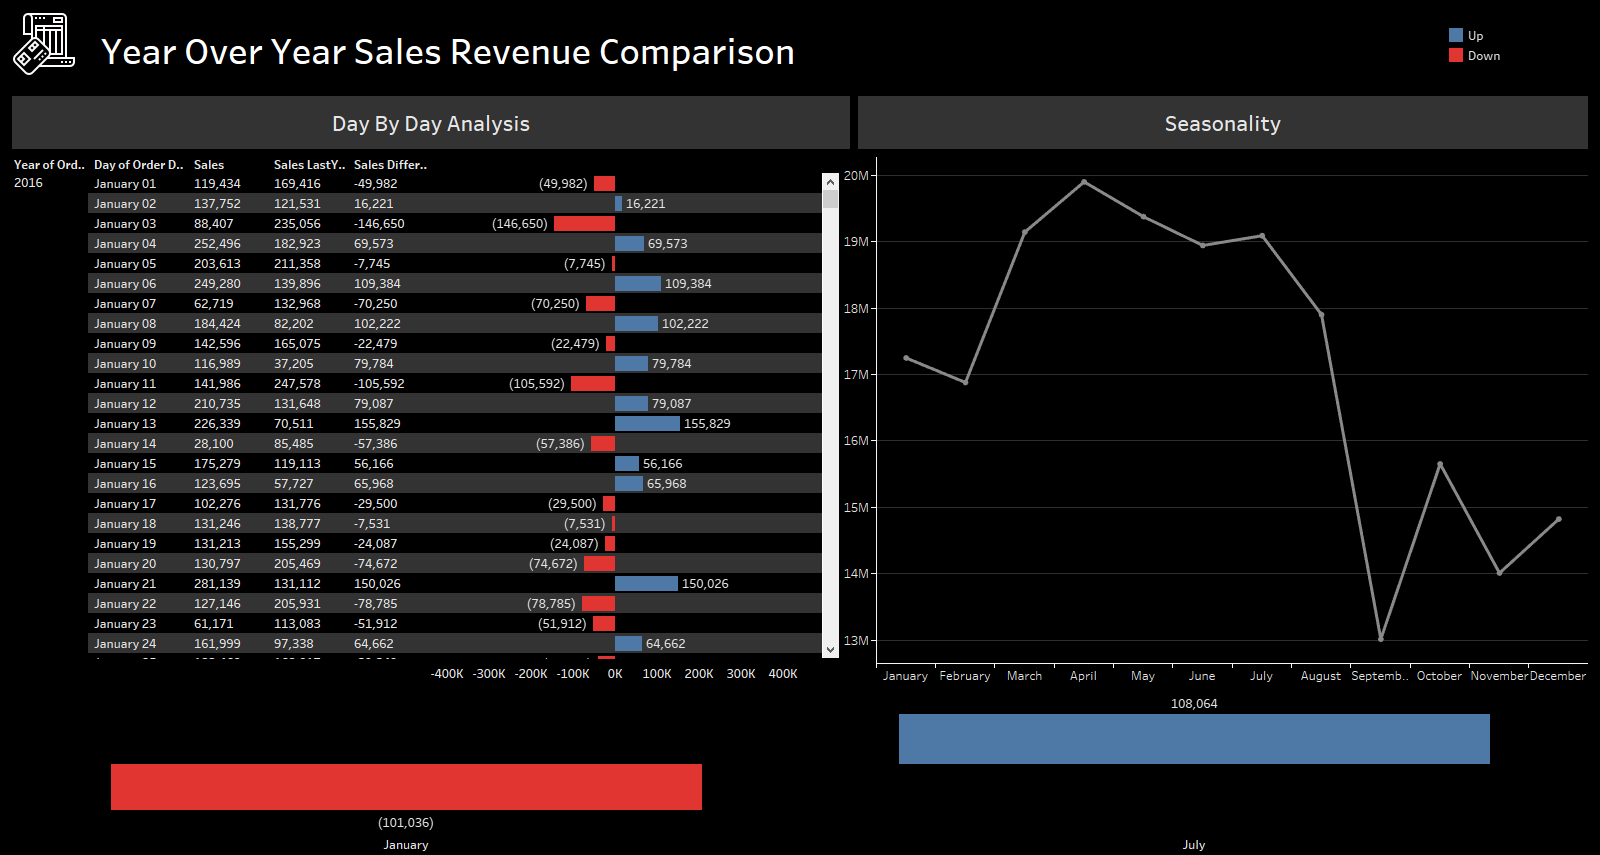

Layout of this report page (visuals, bound fields, positions):
{"tool":"tableau","page":{"name":"Dashboard 1","canvas":[1000,1000],"units":"permille","ordinal":0},"visuals":[{"type":"image","param":"F:/Work/Tableau/SalesOverTime/Aged Trial Balance.png","box":[5.8,10.5,53.9,96.9]},{"type":"text","box":[59.6,10.5,934.6,96.9]},{"type":"legend","title":"SalesOverYear","param":"[federated.05lx0fs0xmlikq14gamvn13kv81j].[usr:Calculation_593912245039910918:nk:","box":[904,28.8,62,50]},{"type":"text","box":[5.8,107.3,527.7,69.4]},{"type":"text","box":[533.5,107.3,460.8,69.4]},{"type":"worksheet","title":"SalesOverYear","mark":"Automatic","rows":["OrderDate","OrderDate","Calculation_593912245024518145","Calculation_593912245032198146","Calculation_593912245034192900"],"cols":["Calculation_593912245034192900"],"box":[5.8,176.7,518.3,613.9]},{"type":"worksheet","title":"LineChart","mark":"Line","rows":["Calculation_593912245024518145"],"cols":["OrderDate"],"box":[524.1,176.7,470.2,613.9]},{"type":"worksheet","title":"ThisYear","mark":"Bar","rows":["Calculation_593912245067825162"],"cols":["OrderDate"],"box":[5.8,790.6,988.5,199]}]}

Visuals, with their boxes on the dashboard's canvas, which has no fixed pixel size, in thousandths of its width and height (x1, y1, x2, y2). These are canvas units, not pixel positions in the 1600x855 screenshot, which may show the page scaled, cropped or inside an application window:
image: 6/10/60/107
text: 60/10/994/107
"SalesOverYear" legend: 904/29/966/79
text: 6/107/534/177
text: 534/107/994/177
"SalesOverYear" worksheet: 6/177/524/791
"LineChart" worksheet (Line marks): 524/177/994/791
"ThisYear" worksheet (Bar marks): 6/791/994/990
